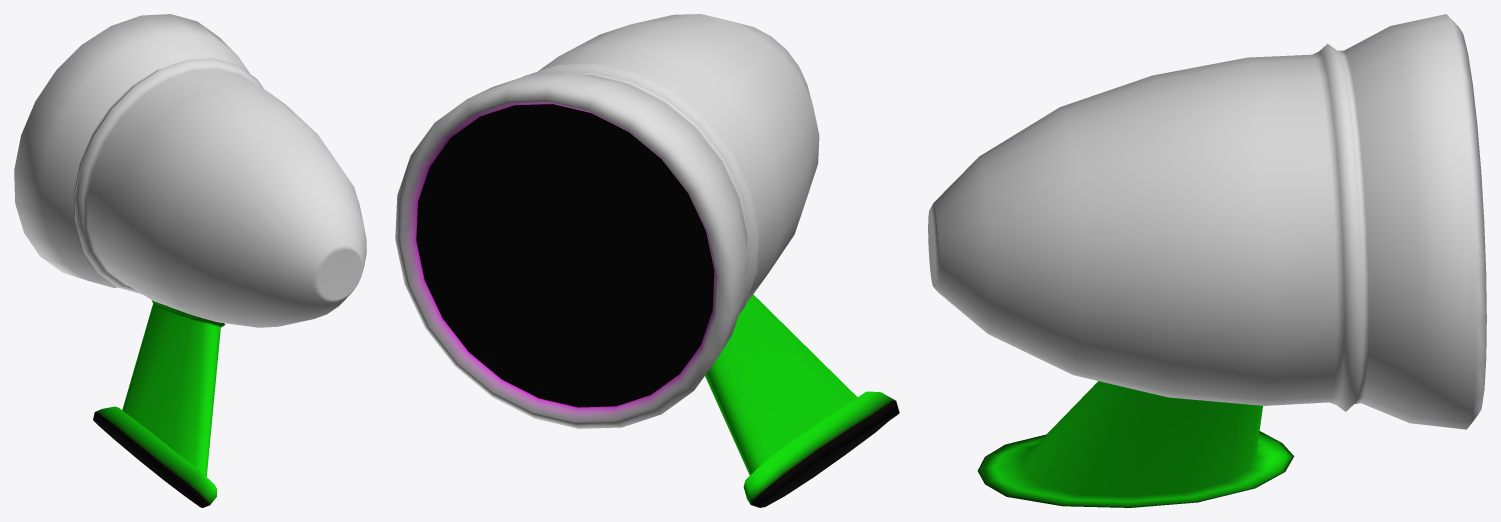
File: Car_Buick_GrandNational_1987_MirrorL_SetXT.fbx
3 renders of one model, left to right at view 1: azimuth 30°, elevation 25°; view 2: azimuth 150°, elevation 25°; view 3: azimuth 270°, elevation 25°, orthographic. The views are drawn at different scales.
Visible parts, largest first — view 1: MirrorL 6; view 2: MirrorL 6; view 3: MirrorL 6.
Boxes of the visible parts, x1,y1,x2,y2 form: MirrorL 6: (14,14,366,507); MirrorL 6: (395,14,899,507); MirrorL 6: (928,14,1486,507).
Bounding box in the file's own units: 0.1227 × 0.1725 × 0.1662.
